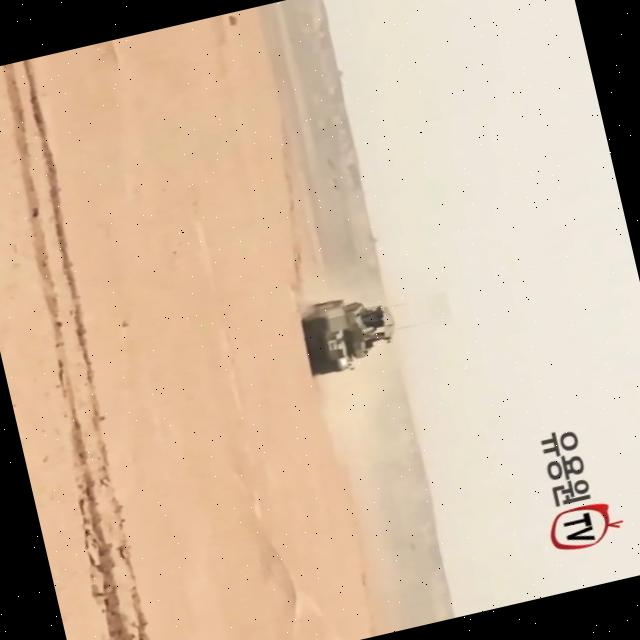korea tank: (294, 286, 401, 380)
